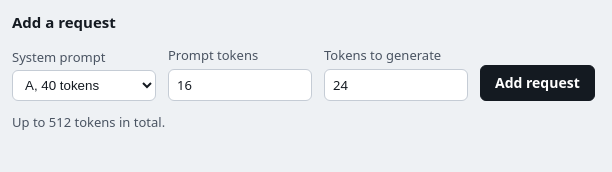
Test: AddRequestForm › sends the request with the chosen system prompt and confirms it
Replace the text in the number field labelled "Prompt tokens" with "30": (240, 85) [168,69,312,101]
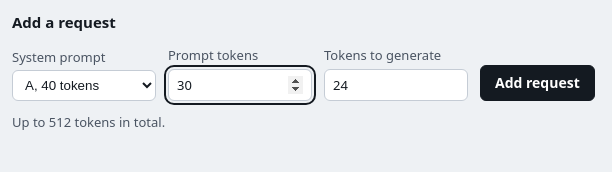
Replace the text in the number field labelled "Tokens to generate" with "10": (396, 85) [324,69,468,101]
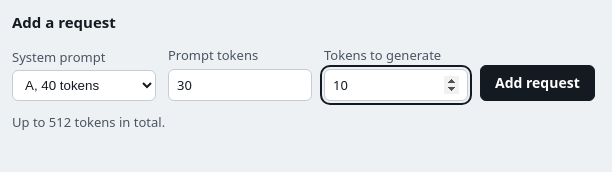
Select "B, 56 tokens" in the dropdown labelled "System prompt": (84, 86) [12,70,156,101]
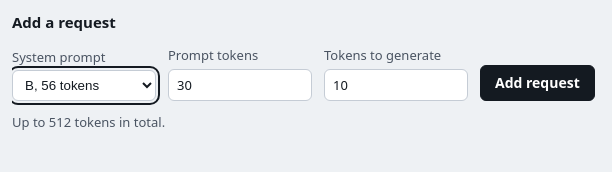
Click the button "Add request": click(537, 83) [480,65,595,101]
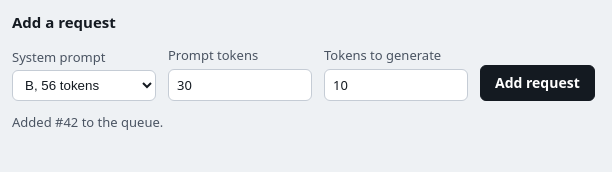
Now the text "Added #42 to the queue." is shown, box [12,113,163,131]
